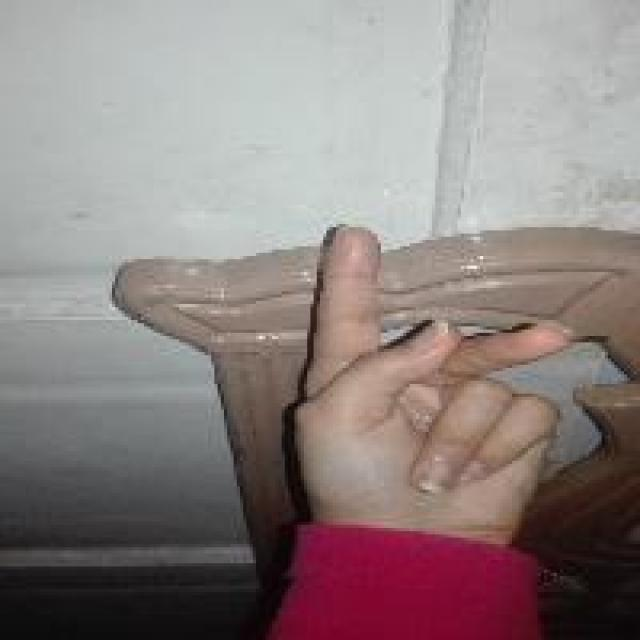K: (285, 219, 576, 530)
